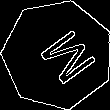M_SW: (23, 21, 92, 88)
